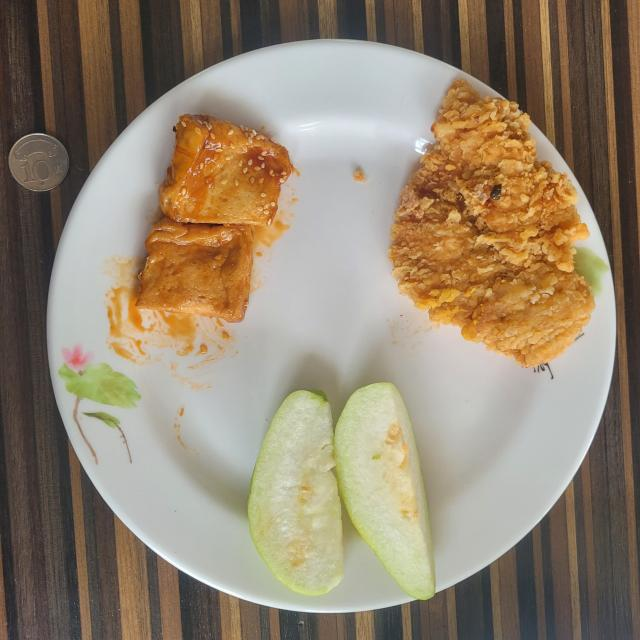coin: (9, 134, 69, 191)
creamy tofu: (138, 114, 292, 322)
fried chicken cutlet: (389, 80, 594, 366)
guava -sliced-: (248, 382, 435, 600)
